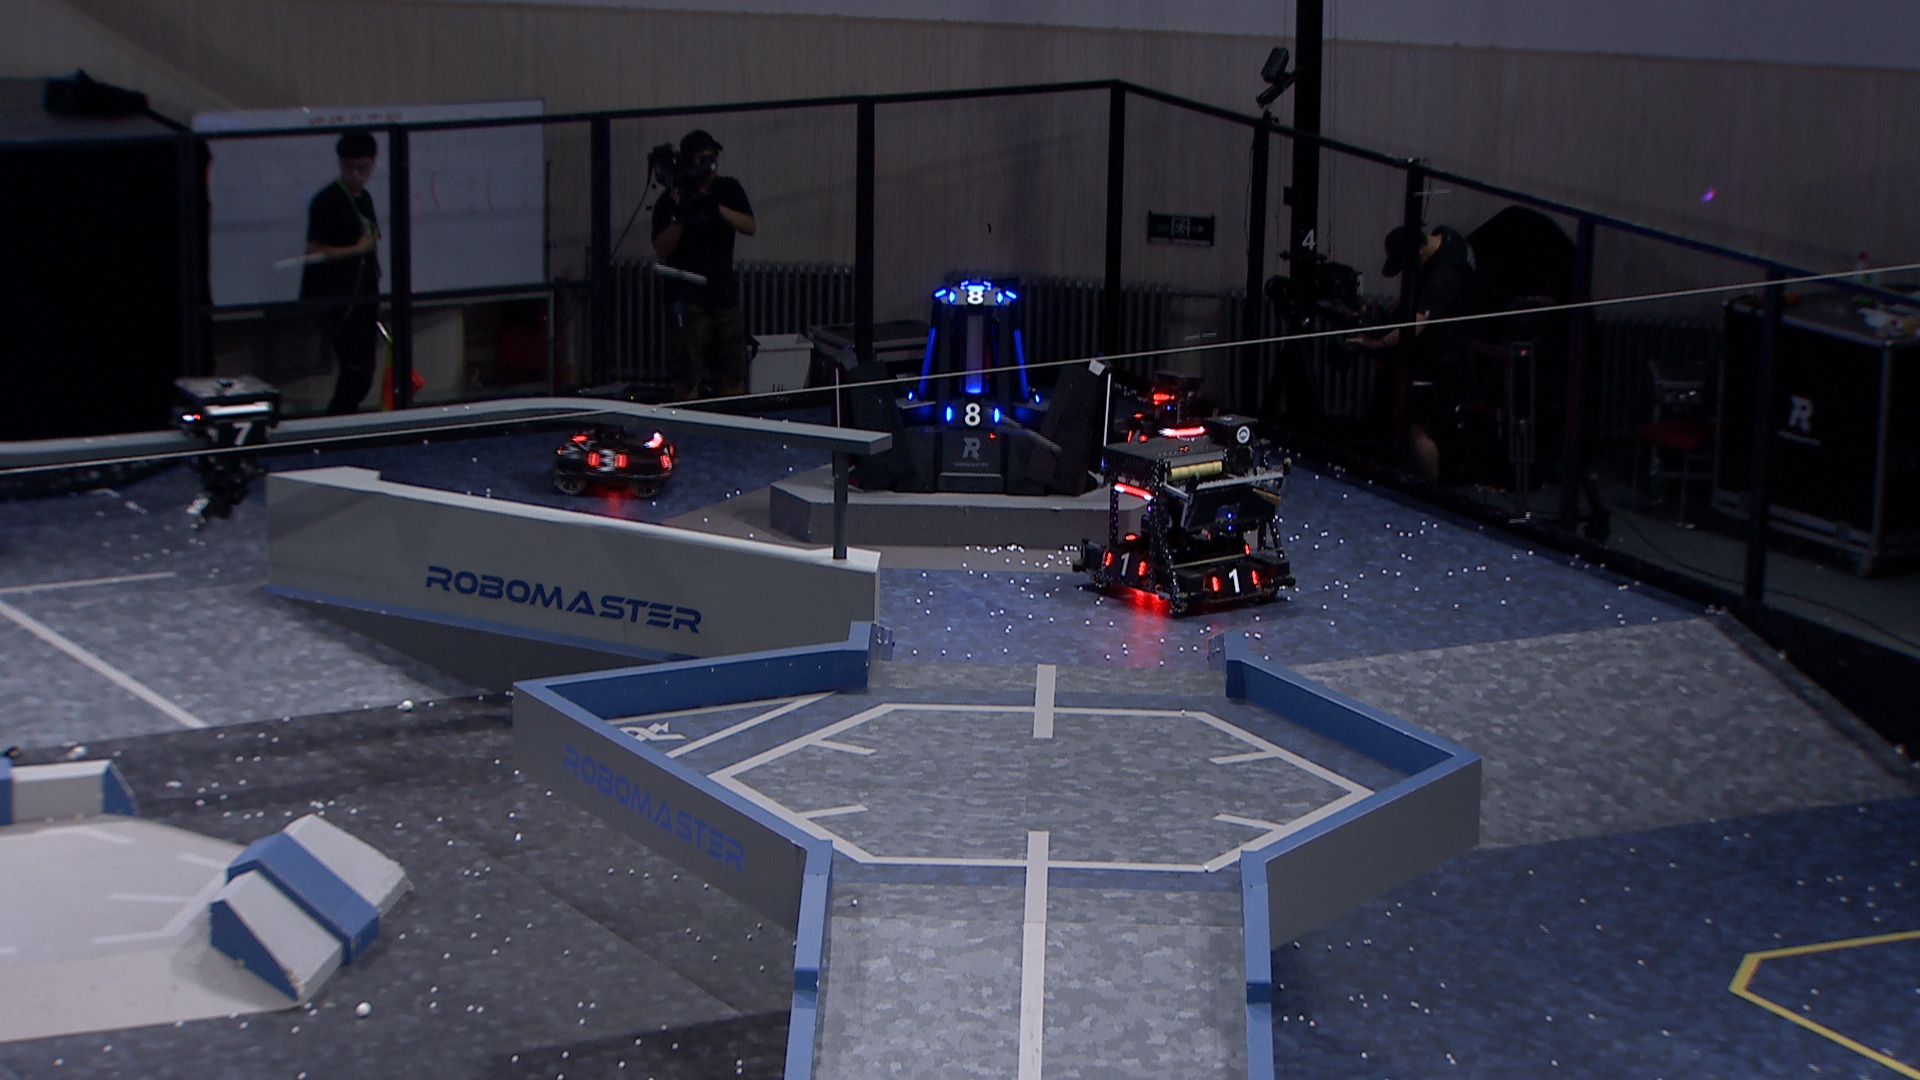armor: (202, 418, 273, 451), (1101, 545, 1153, 584), (913, 324, 940, 396), (942, 400, 1004, 429), (1207, 564, 1262, 595), (1011, 330, 1034, 398), (948, 284, 1006, 309), (585, 446, 626, 476), (659, 439, 680, 475), (1124, 425, 1150, 451), (963, 373, 984, 396)
base: (823, 262, 1120, 496)
car: (1073, 431, 1299, 618), (547, 376, 684, 501), (1105, 365, 1225, 475)
watcher: (173, 371, 291, 531)
